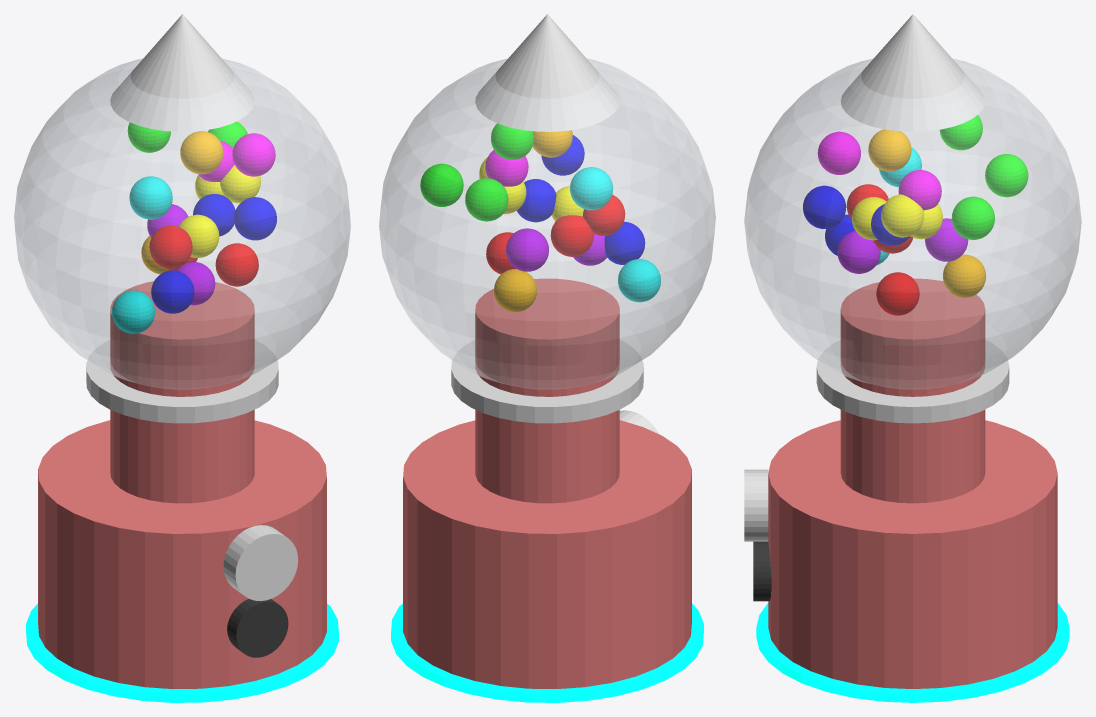
The model's file is gumball_machine.glb.
3 renders of one model, left to right at view 1: azimuth 30°, elevation 25°; view 2: azimuth 150°, elevation 25°; view 3: azimuth 270°, elevation 25°, orthographic.
Visible parts, largest first — view 1: Globe, Base, Column, TopCap, GlobeRim, NeonRing, CoinMech, Dispenser, Gumball_8, Gumball_6, Gumball_12, Gumball_18 (+12 smaller); view 2: Globe, Base, Column, TopCap, GlobeRim, NeonRing, Gumball_9, Gumball_1, Gumball_5, Gumball_15, Gumball_13, Gumball_14 (+11 smaller); view 3: Globe, Base, Column, TopCap, GlobeRim, NeonRing, CoinMech, Gumball_1, Gumball_8, Gumball_9, Gumball_10, Gumball_12 (+14 smaller).
Part boxes in pixels (x1,y1,x2,y2): Globe: [14, 58, 350, 389]; Base: [38, 420, 326, 688]; Column: [110, 281, 254, 503]; TopCap: [110, 14, 254, 131]; GlobeRim: [86, 340, 278, 423]; NeonRing: [26, 603, 338, 702]; CoinMech: [223, 525, 298, 601]; Dispenser: [227, 599, 288, 657]; Gumball_8: [215, 243, 258, 286]; Gumball_6: [180, 131, 223, 174]; Gumball_12: [232, 133, 275, 176]; Gumball_18: [151, 270, 194, 313]; Globe: [379, 58, 715, 389]; Base: [403, 420, 691, 688]; Column: [475, 278, 619, 503]; TopCap: [475, 14, 619, 131]; GlobeRim: [451, 340, 643, 423]; NeonRing: [391, 603, 703, 702]; Gumball_9: [420, 163, 463, 206]; Gumball_1: [465, 178, 508, 221]; Gumball_5: [570, 167, 613, 210]; Gumball_15: [506, 228, 548, 271]; Gumball_13: [618, 259, 660, 302]; Gumball_14: [494, 269, 536, 312]; Globe: [744, 58, 1081, 389]; Base: [768, 420, 1057, 688]; Column: [840, 278, 985, 503]; TopCap: [840, 14, 985, 131]; GlobeRim: [816, 340, 1009, 423]; NeonRing: [756, 603, 1069, 702]; CoinMech: [744, 469, 768, 541]; Gumball_1: [985, 154, 1028, 197]; Gumball_8: [876, 272, 919, 315]; Gumball_9: [951, 196, 994, 239]; Gumball_10: [803, 185, 846, 228]; Gumball_12: [817, 131, 860, 174].
Bounding box in the file's own units: 0.28 × 0.57 × 0.28.
